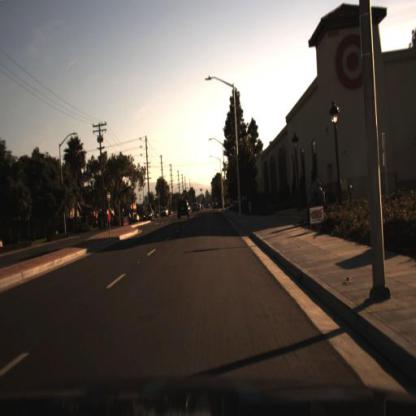car: (176, 198, 192, 219), (141, 205, 156, 224), (161, 206, 171, 219)
